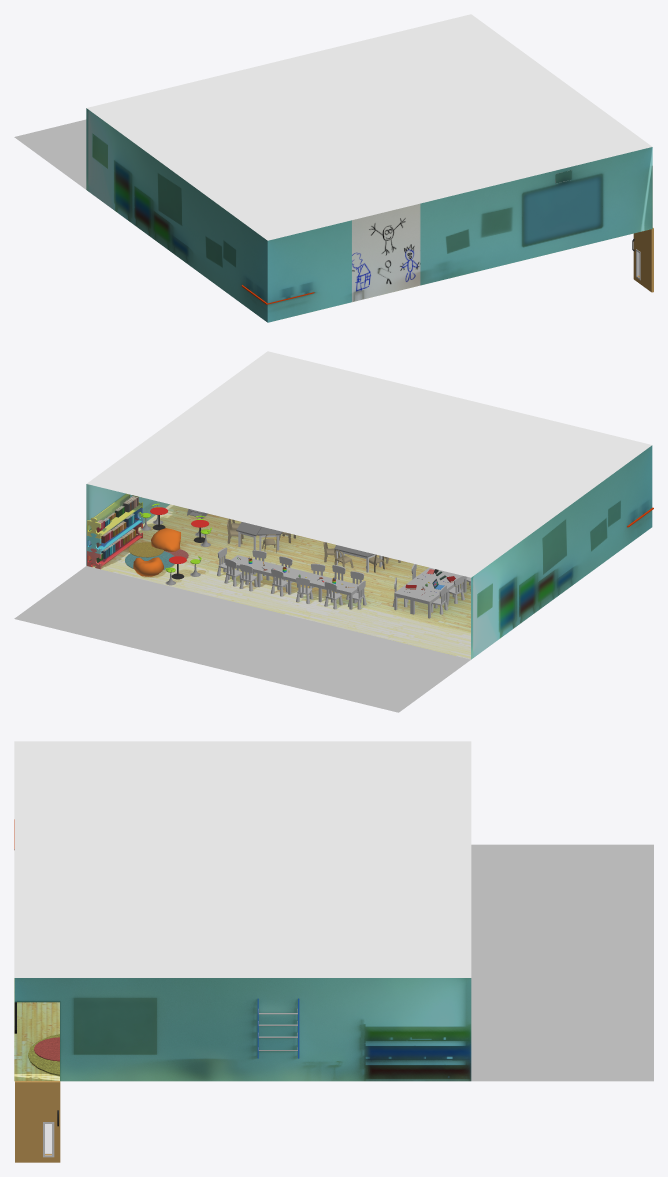
The model's file is SceneClasse.FBX.
3 renders of one model, top to bottom at view 1: azimuth 30°, elevation 25°; view 2: azimuth 150°, elevation 25°; view 3: azimuth 270°, elevation 25°, orthographic. The views are drawn at different scales.
Visible parts, largest first — view 1: Plafond, Murs, dehors, Porte; view 2: Plafond, vitre, dehors, Sol, Murs, Biblio, Table_Art, Table_General, Tapis, Poof2; view 3: Plafond, Murs, dehors, Porte, Sol, Tapis.
Boxes of the visible parts, left/top/right/bottom form: Plafond: left=87, top=14, right=652, bottom=240; Murs: left=86, top=108, right=652, bottom=322; dehors: left=14, top=119, right=86, bottom=189; Porte: left=632, top=228, right=653, bottom=292; Plafond: left=87, top=351, right=651, bottom=577; vitre: left=86, top=484, right=470, bottom=659; dehors: left=14, top=566, right=470, bottom=712; Sol: left=92, top=504, right=470, bottom=659; Murs: left=86, top=445, right=652, bottom=659; Biblio: left=87, top=493, right=142, bottom=569; Table_Art: left=228, top=555, right=361, bottom=609; Table_General: left=394, top=567, right=467, bottom=618; Tapis: left=125, top=542, right=188, bottom=569; Poof2: left=151, top=528, right=180, bottom=551; Plafond: left=14, top=741, right=471, bottom=977; Murs: left=14, top=978, right=471, bottom=1081; dehors: left=471, top=844, right=653, bottom=1081; Porte: left=15, top=1081, right=60, bottom=1162; Sol: left=14, top=978, right=59, bottom=1081; Tapis: left=28, top=1034, right=59, bottom=1075.
Size of the model in its own units: 628 by 224 by 709.
